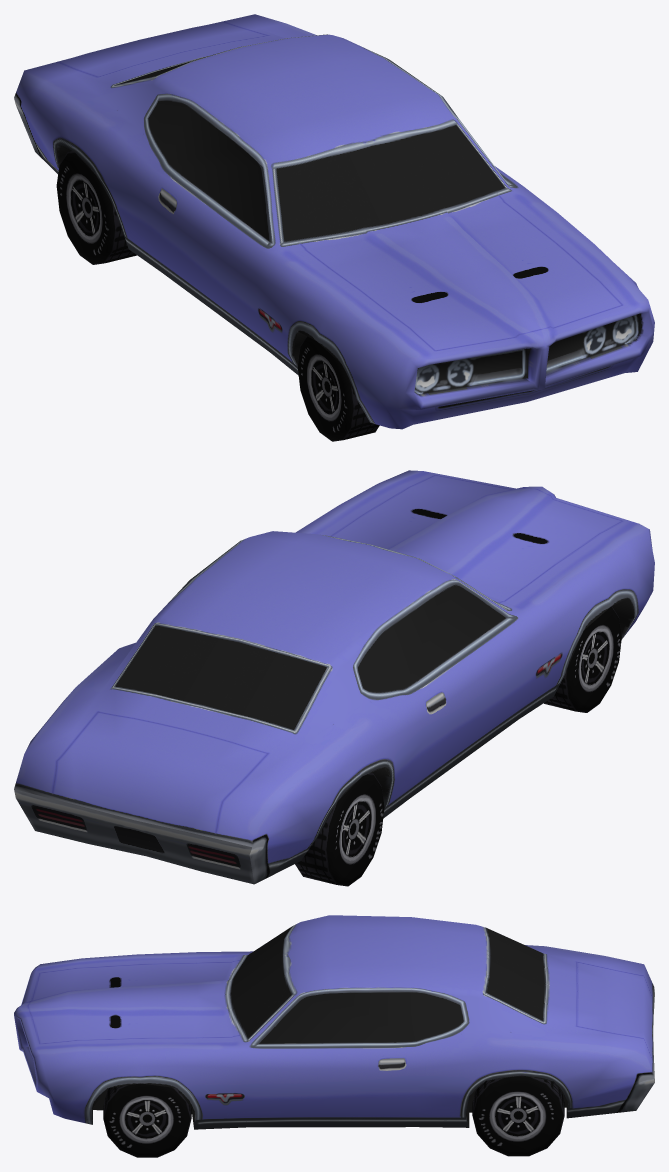
Rendered from Goat.fbx.
The picture shows the model from 3 angles, top to bottom: view 1: azimuth 30°, elevation 25°; view 2: azimuth 150°, elevation 25°; view 3: azimuth 270°, elevation 25°; orthographic projection. The views are drawn at different scales.
Visible parts, largest first — view 1: GoatBody, WheelBR, WheelFR; view 2: GoatBody, WheelBR, WheelFR; view 3: GoatBody, WheelBL, WheelFL.
Boxes of the visible parts, x1,y1,x2,y2 form: GoatBody: (14, 14, 654, 429); WheelBR: (56, 151, 136, 264); WheelFR: (297, 336, 379, 441); GoatBody: (14, 470, 654, 884); WheelBR: (295, 773, 384, 886); WheelFR: (544, 606, 621, 712); GoatBody: (14, 915, 654, 1129); WheelBL: (472, 1075, 564, 1156); WheelFL: (103, 1083, 191, 1157).
Bounding box in the file's own units: 214 × 145 × 519.
